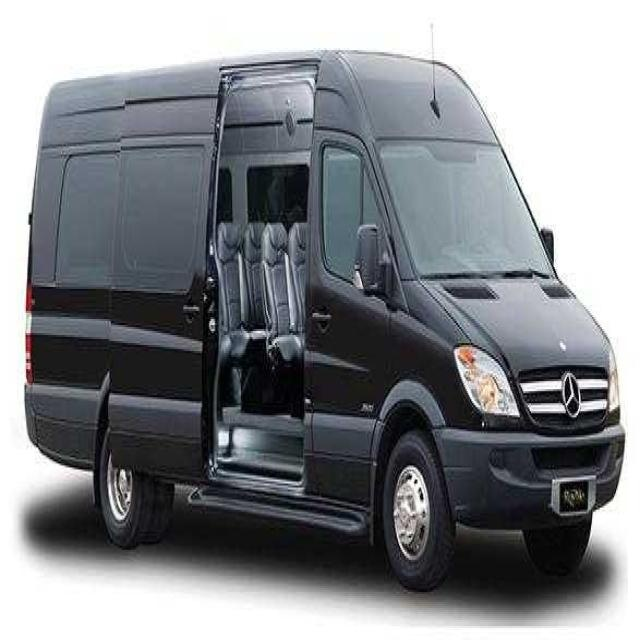Van: (22, 42, 625, 595)
